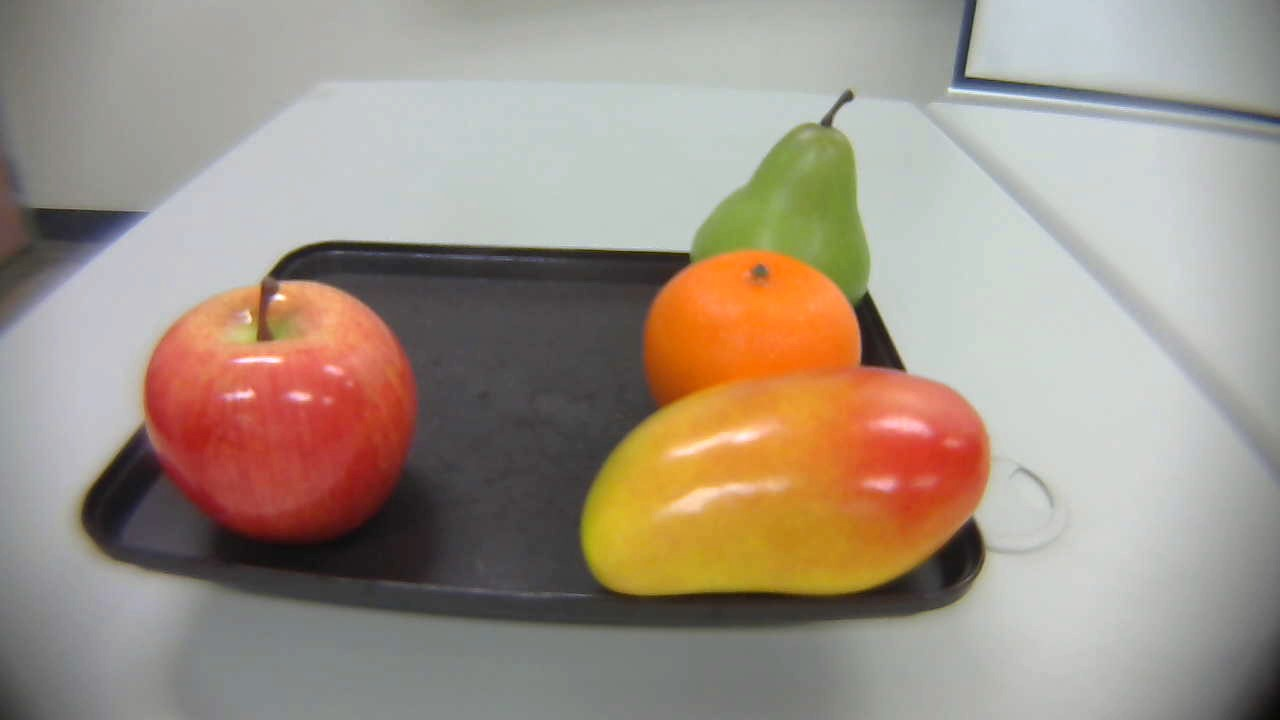green pear: (688, 84, 875, 336)
orange: (628, 243, 868, 434)
red apple: (137, 268, 423, 546)
red mango: (572, 366, 1008, 599)
